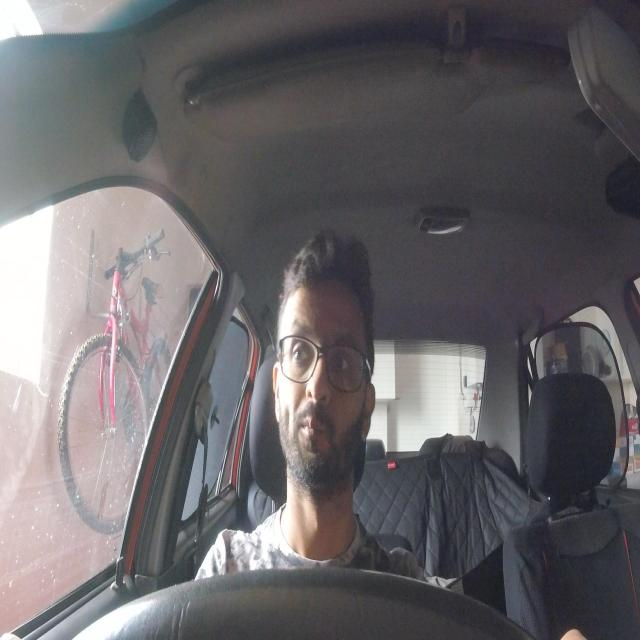open: (284, 321, 317, 387), (325, 328, 356, 390)
